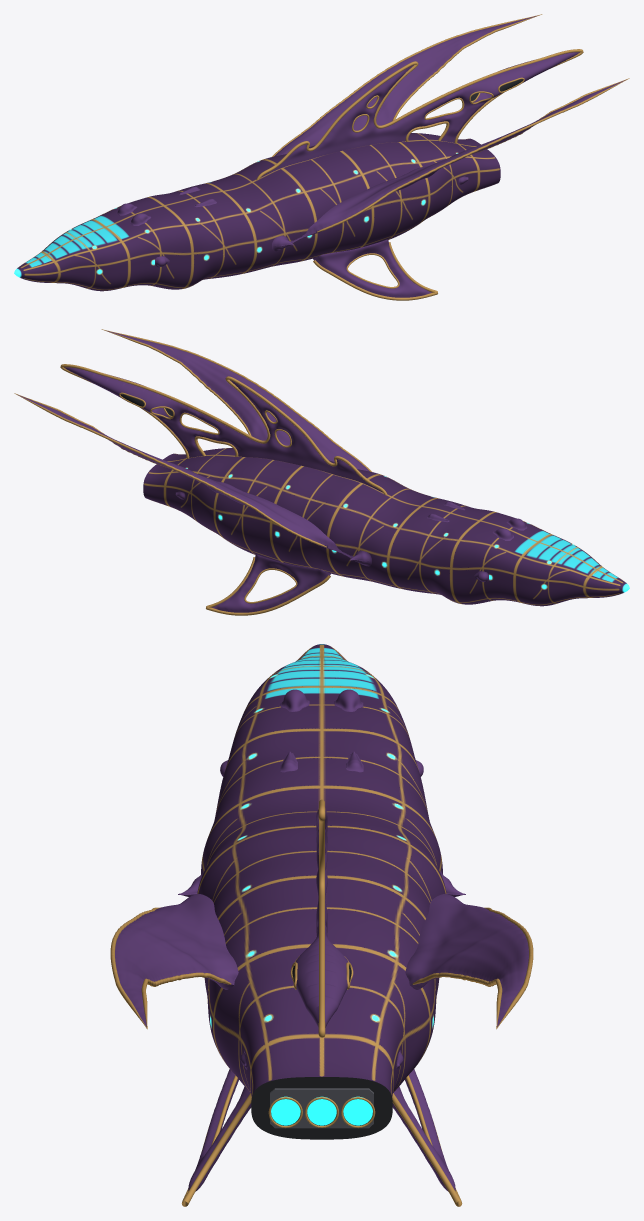
File: model_v45_web.glb
3 renders of one model, top to bottom at view 1: azimuth 30°, elevation 25°; view 2: azimuth 150°, elevation 25°; view 3: azimuth 270°, elevation 25°, orthographic. The views are drawn at different scales.
Visible parts, largest first — view 1: EXT__EXT_Hull, EXT__EXT_Blade__NC, EXT__EXT_Blade, EXT__EXT_Copper__NC, EXT__EXT_Copper; view 2: EXT__EXT_Hull, EXT__EXT_Blade__NC, EXT__EXT_Copper__NC, EXT__EXT_Blade, EXT__EXT_Copper; view 3: EXT__EXT_Hull, EXT__EXT_Blade__NC, EXT__EXT_Blade, EXT__EXT_Copper__NC, EXT__INT_Dark, EXT__EXT_Copper, INT_S__INT_Shell, DRV__DRV_Glow__NC.
Part boxes in pixels (x1,y1,x2,y2): EXT__EXT_Hull: [14, 133, 500, 291]; EXT__EXT_Blade__NC: [116, 15, 579, 215]; EXT__EXT_Blade: [130, 79, 626, 297]; EXT__EXT_Copper__NC: [256, 14, 583, 180]; EXT__EXT_Copper: [313, 78, 629, 300]; EXT__EXT_Hull: [143, 448, 629, 606]; EXT__EXT_Blade__NC: [17, 367, 513, 612]; EXT__EXT_Copper__NC: [14, 364, 387, 615]; EXT__EXT_Blade: [106, 330, 527, 530]; EXT__EXT_Copper: [101, 329, 371, 471]; EXT__EXT_Hull: [197, 644, 446, 1097]; EXT__EXT_Blade__NC: [295, 689, 528, 1191]; EXT__EXT_Blade: [115, 689, 309, 1191]; EXT__EXT_Copper__NC: [290, 799, 533, 1206]; EXT__INT_Dark: [251, 1077, 392, 1139]; EXT__EXT_Copper: [110, 907, 251, 1206]; INT_S__INT_Shell: [270, 1088, 373, 1128]; DRV__DRV_Glow__NC: [307, 1096, 372, 1125].
Size of the model in its own units: 117 by 40.32 by 37.41.
26 materials, 1 textured.
